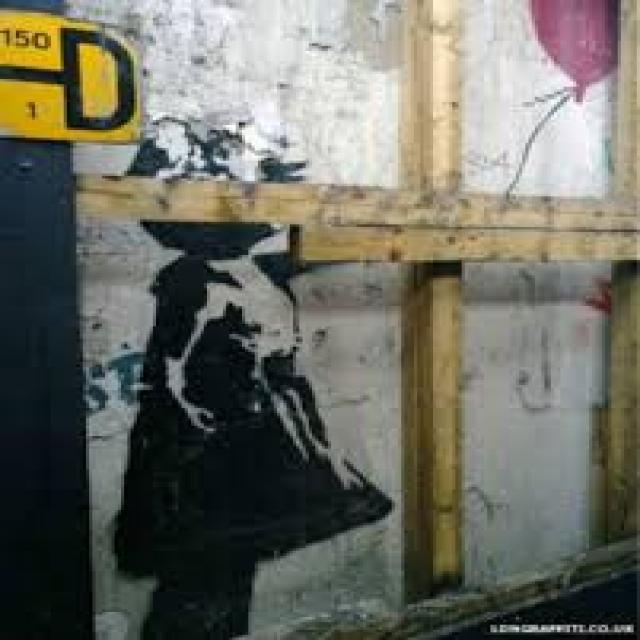-: (110, 116, 394, 640), (507, 0, 622, 195)
